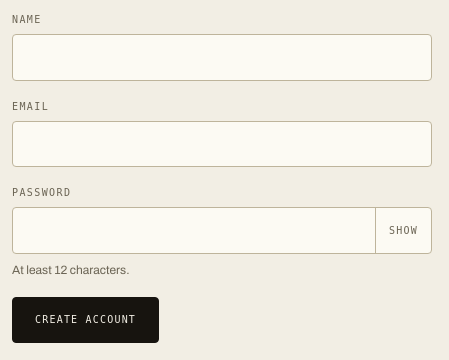
Test: SignUpForm › lets the visitor return to the form after delivery confirmation
In the field labelled "NAME": (222, 57) [12,34,432,80], type "Asha"
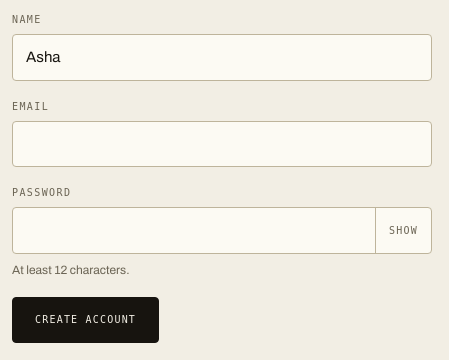
In the field labelled "EMAIL": (222, 144) [12,120,432,167], type "asha@example.com"
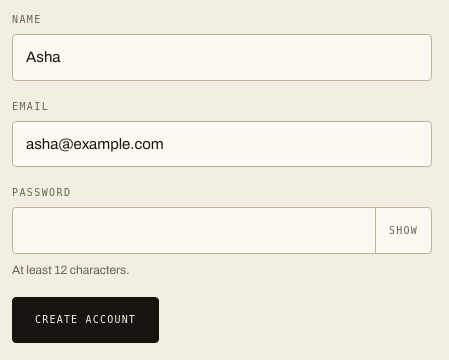
In the password field labelled "PASSWORD": (222, 230) [12,207,432,254], type "a-sufficiently-long-password"
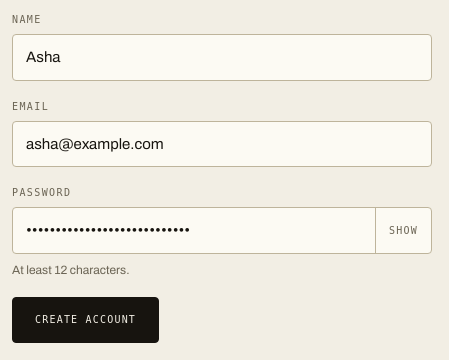
Click the button "CREATE ACCOUNT": (86, 320) [12,296,159,342]
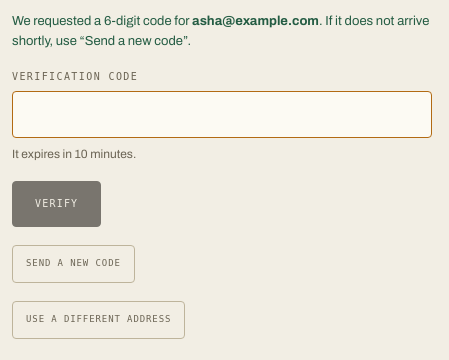
Check: the message is shown, box [12,12,432,51]
Click the button "USE A DIFFERENT ADDRESS": (99, 320) [12,300,185,338]
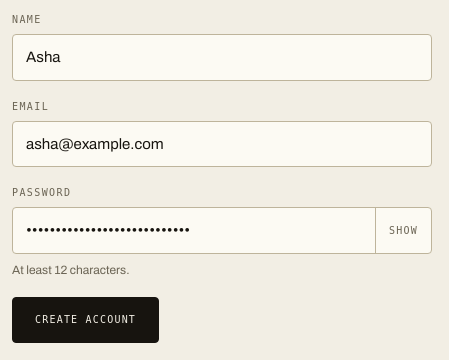
Check: the password field labelled "PASSWORD" is shown, box [12,207,432,254]
